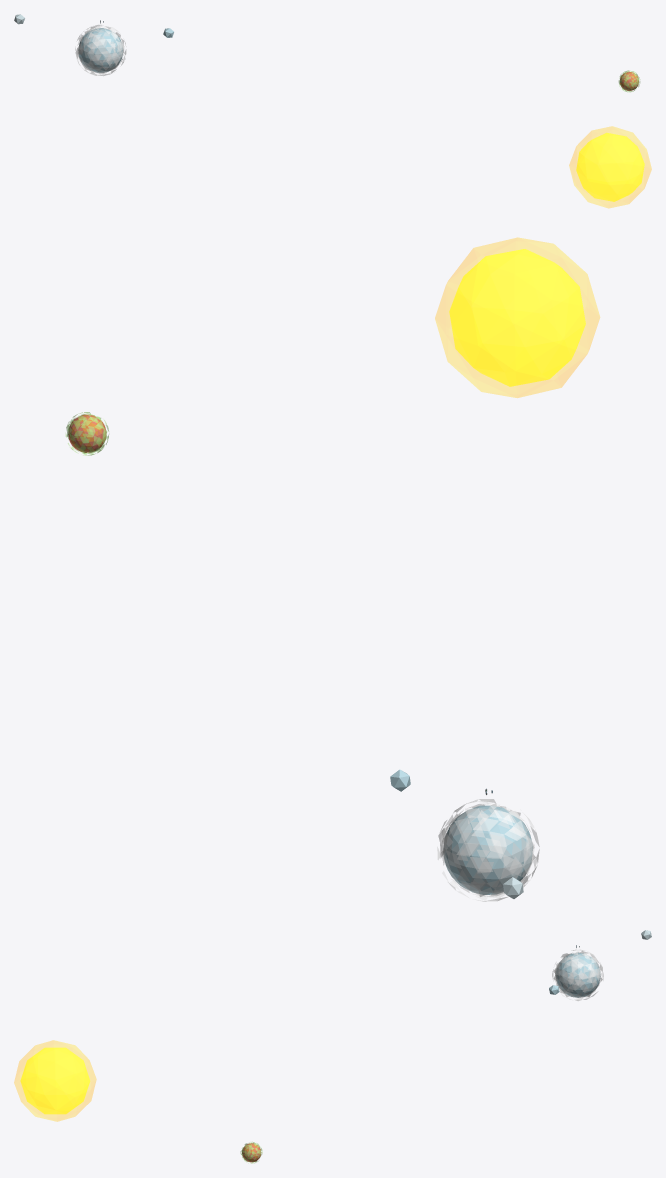
The picture shows the model from 3 angles, top to bottom: view 1: azimuth 30°, elevation 25°; view 2: azimuth 150°, elevation 25°; view 3: azimuth 270°, elevation 25°; orthographic projection. The views are drawn at different scales.
Parts seen in each view (by area): view 1: Icosphere.007, Icosphere.008, Icosphere.001; view 2: Icosphere.007, Icosphere.008, Icosphere.001; view 3: Icosphere.007, Icosphere.008, Icosphere.001.
Part boxes in pixels (x1,y1,x2,y2): Icosphere.007: (569,126,651,208); Icosphere.008: (75,24,126,75); Icosphere.001: (618,70,640,92); Icosphere.007: (435,237,599,397); Icosphere.008: (437,799,539,901); Icosphere.001: (65,412,108,455); Icosphere.007: (14,1040,96,1121); Icosphere.008: (552,949,603,1000); Icosphere.001: (240,1142,262,1163).
Bounding box in the file's own units: 19697 × 3358 × 25649.
